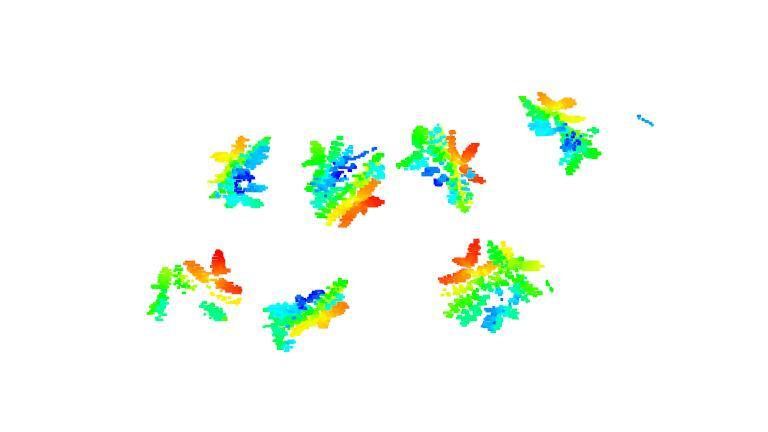chickpea: (435, 238, 554, 329), (393, 122, 489, 214), (301, 132, 390, 229), (516, 89, 609, 179), (144, 248, 246, 327), (262, 274, 352, 354), (203, 131, 274, 212)
